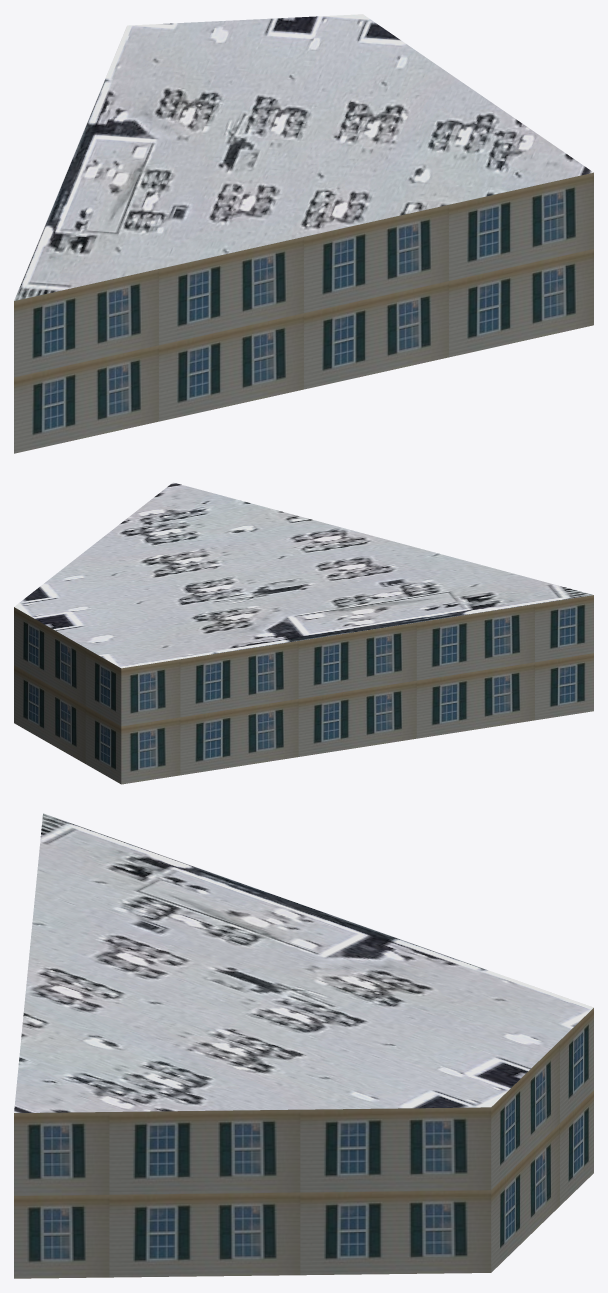
The model's file is ResTex__3990.fbx.
The picture shows the model from 3 angles, top to bottom: view 1: azimuth 30°, elevation 25°; view 2: azimuth 150°, elevation 25°; view 3: azimuth 270°, elevation 25°; orthographic projection. The views are drawn at different scales.
Parts seen in each view (by area): view 1: CityEngineMaterial_15_m, CityEngineMaterial_7_m; view 2: CityEngineMaterial_7_m, CityEngineMaterial_15_m; view 3: CityEngineMaterial_15_m, CityEngineMaterial_7_m.
Boxes of the visible parts, bbox=[...] form: CityEngineMaterial_15_m: bbox=[14, 14, 593, 300]; CityEngineMaterial_7_m: bbox=[14, 172, 593, 453]; CityEngineMaterial_7_m: bbox=[14, 595, 593, 784]; CityEngineMaterial_15_m: bbox=[14, 482, 592, 668]; CityEngineMaterial_15_m: bbox=[14, 813, 593, 1112]; CityEngineMaterial_7_m: bbox=[14, 1008, 593, 1278].
Size of the model in its own units: 23.3 by 6 by 19.05.
2 materials, 2 textured.
